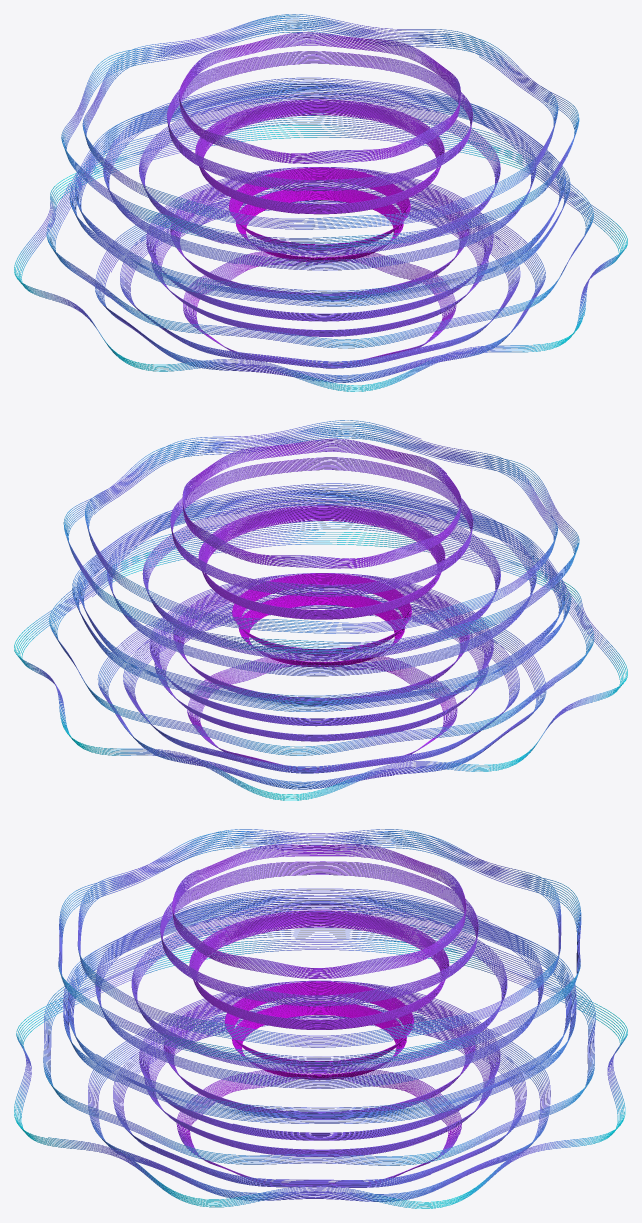
Rendered from coil_7_field_lines.gltf.
The picture shows the model from 3 angles, top to bottom: view 1: azimuth 30°, elevation 25°; view 2: azimuth 150°, elevation 25°; view 3: azimuth 270°, elevation 25°; orthographic projection. The views are drawn at different scales.
Parts seen in each view (by area): view 1: Renderer Node; view 2: Renderer Node; view 3: Renderer Node.
Part boxes in pixels (x1,y1,x2,y2): Renderer Node: (14, 14, 627, 391); Renderer Node: (14, 420, 627, 800); Renderer Node: (14, 829, 627, 1208).
Bounding box in the file's own units: 1.08 × 0.4605 × 1.09.
1 material, 1 textured.
